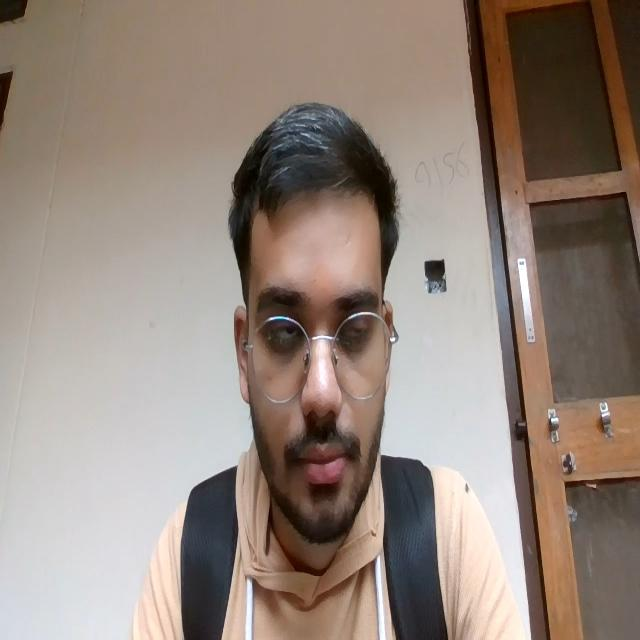drowsy: (255, 274, 382, 484)
